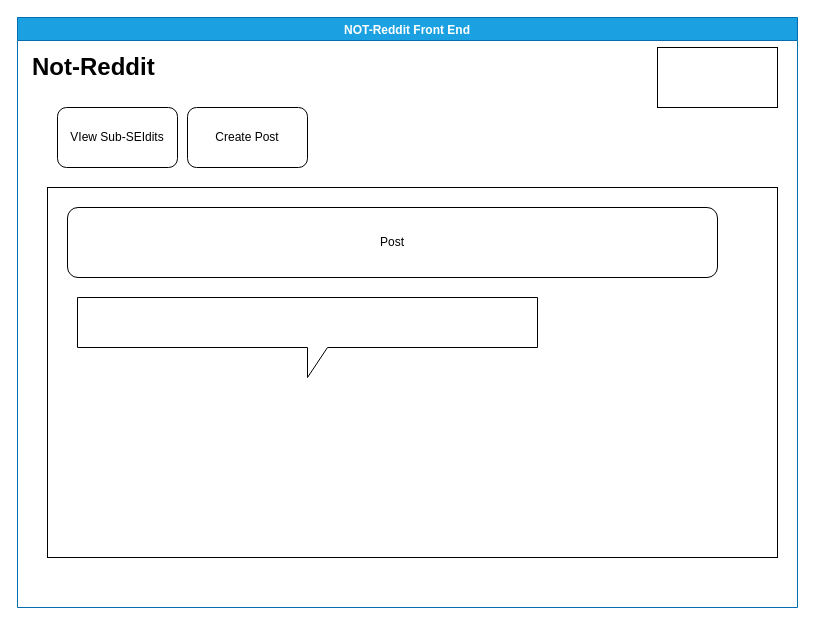
This 815x625 diagram has some shape labels left out. The shapes that lost their labels are listed below. From the top down, each one's box as (x1, y1, x2, y2) in pixels, then its label:
(656, 46, 778, 108): Profile
(76, 296, 538, 378): Comment(s)
